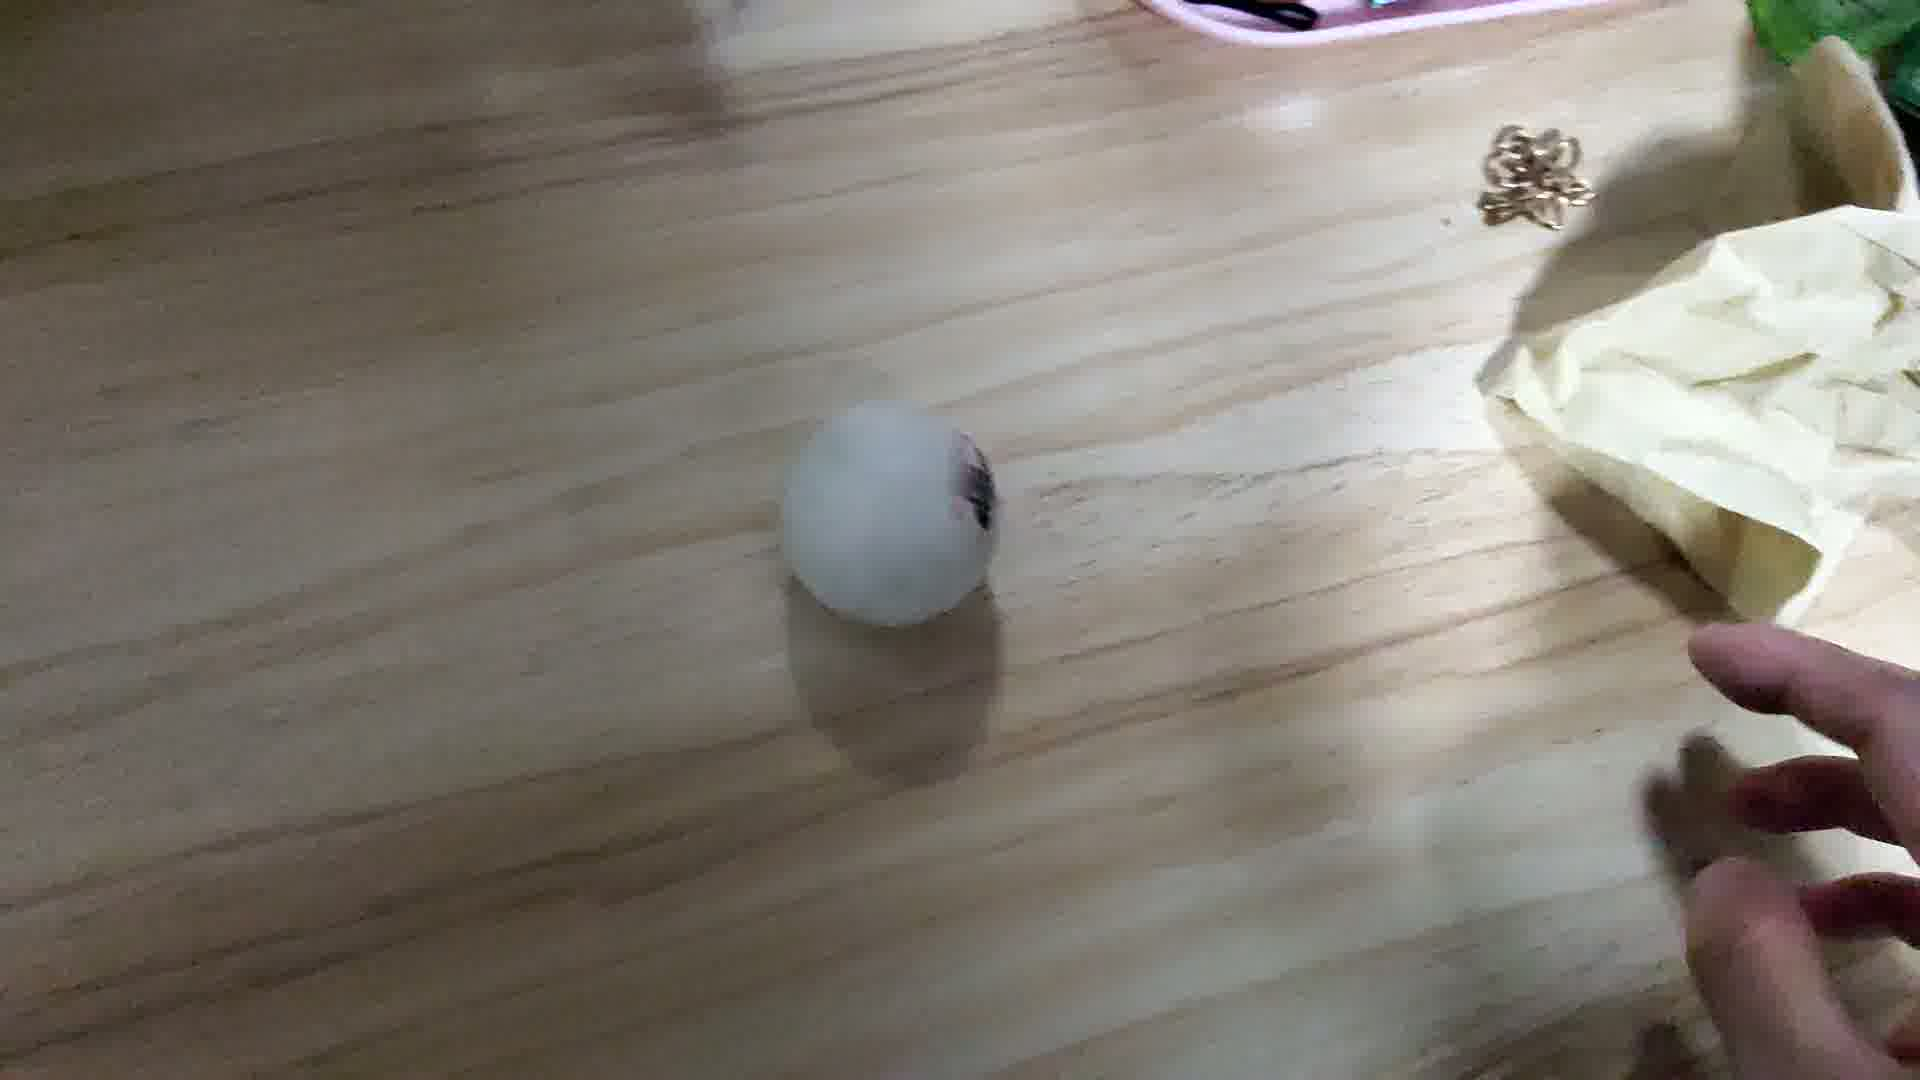Ball: (781, 396, 1001, 629)
